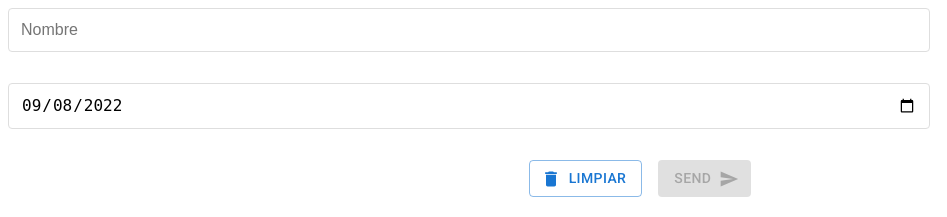
Componente Form › The button 'send' should be disable if there is not a value
The image size is (947, 217).
Expected: the button "Send" is disabled, [658,160,751,197]
Clear the date field at (469, 106), box [8,83,930,129]
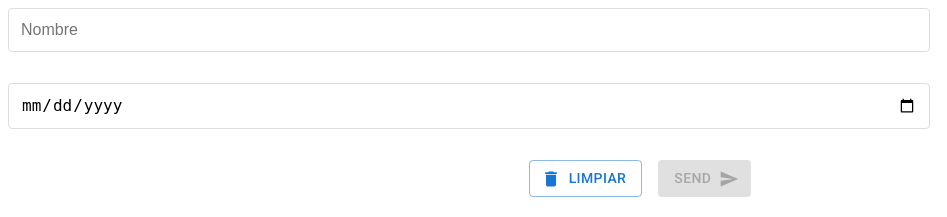
Type "Terminar React" into the field with placeholder "Nombre" at (469, 30), box [8,8,930,52]
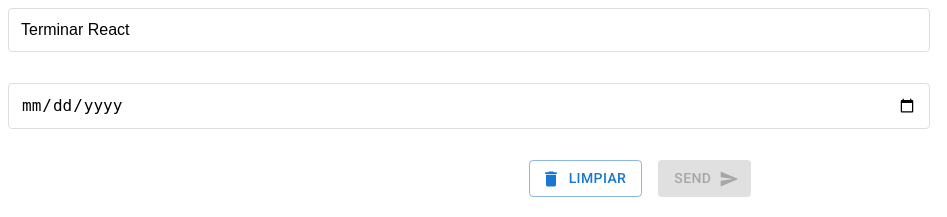
Expected: the button "Send" is disabled, [658,160,751,197]
Type "2025-11-20" into the date field at (469, 106), box [8,83,930,129]
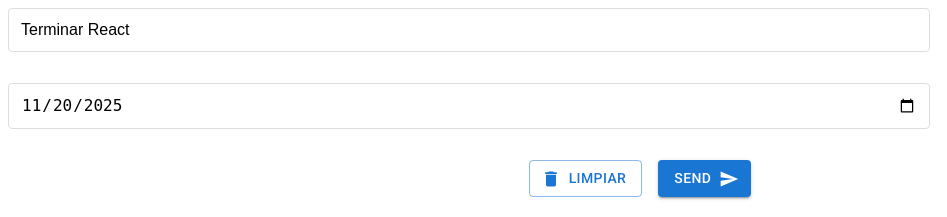
Now the button "Send" is enabled, box [658,160,751,197]
